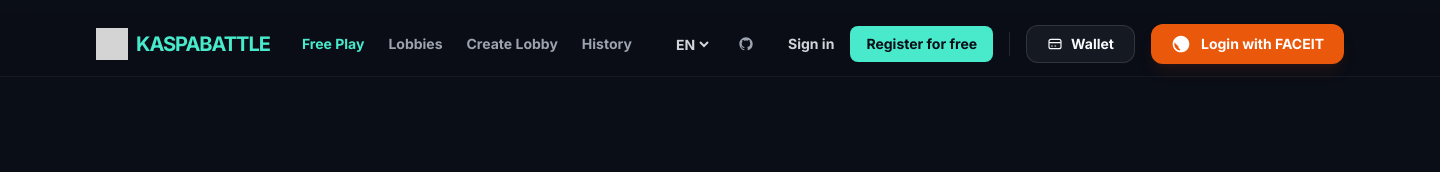
Test: i18n configuration and Language Switcher › switches to German when selected
Expected: the link "Create Lobby" is shown, [466,34,558,54]
// Select German from the dropdown
Select "DE" in the dropdown named "Language": (692, 44) [672,34,712,54]
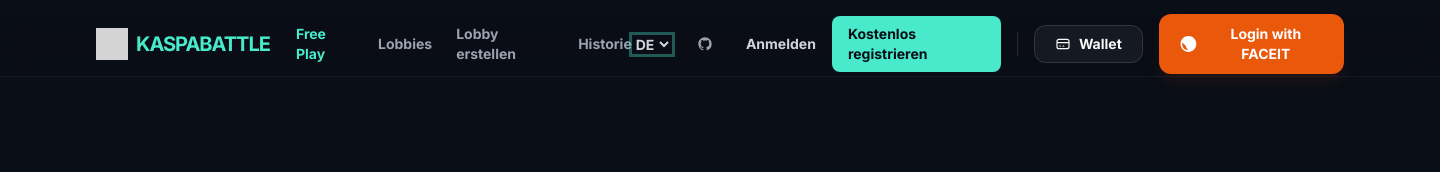
Expected: the link "Lobby erstellen" is shown, [456,25,516,62]
Expected: the link "Create Lobby" is gone
